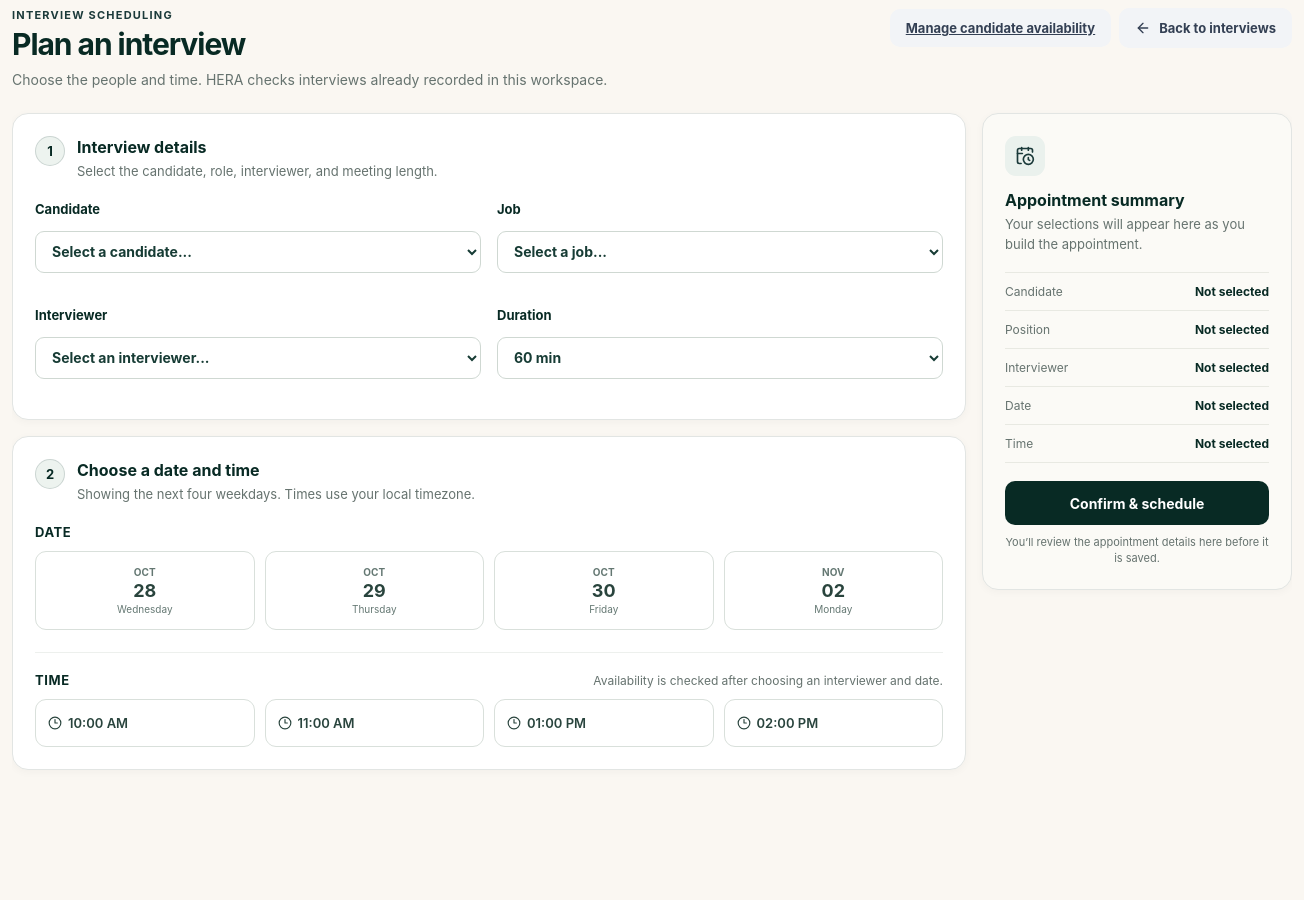
Test: ScheduleInterview › loads availability for the chosen day and disables a conflicting time
Expected: the heading "Interview details" is shown, [77, 137, 207, 157]
Select "Ada Lovelace — Engineer" in the dropdown labelled "Candidate". click: (258, 252)
box: [35, 231, 481, 273]
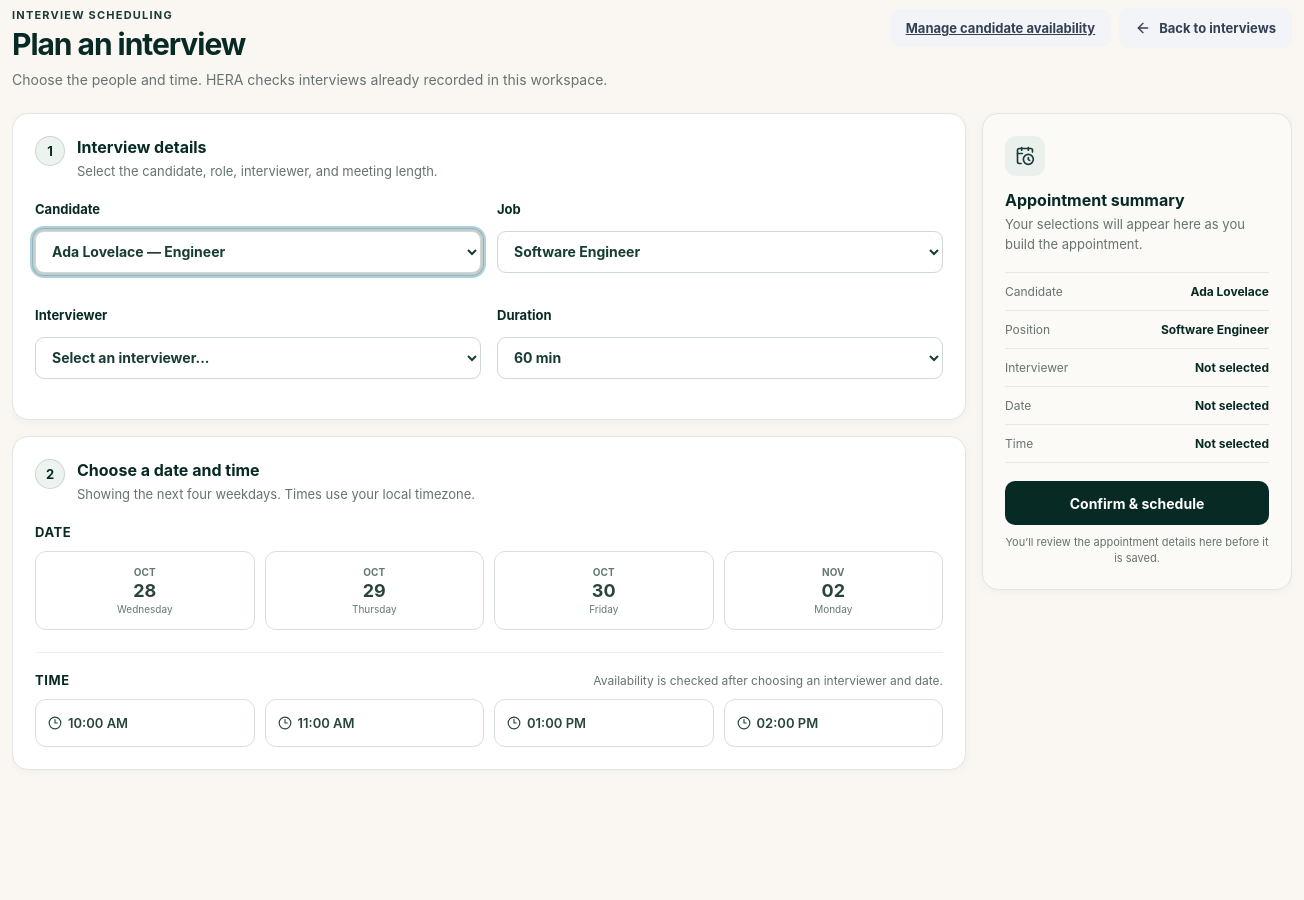
Select "Grace Hopper" in the dropdown labelled "Interviewer". click: (258, 358)
box: [35, 337, 481, 379]
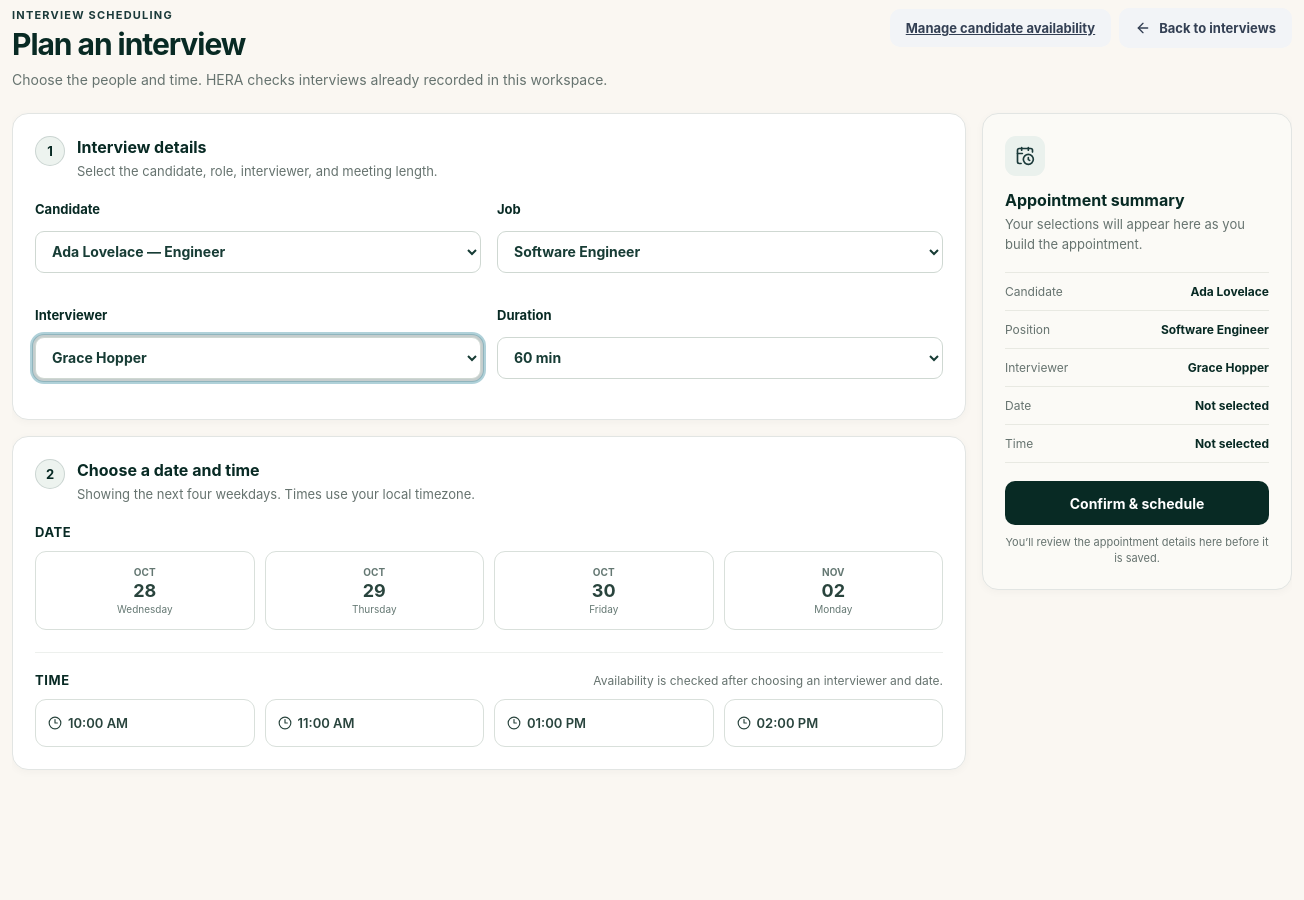
Click the button "OCT 28 Wednesday". click: (145, 590)
box: [35, 551, 254, 630]
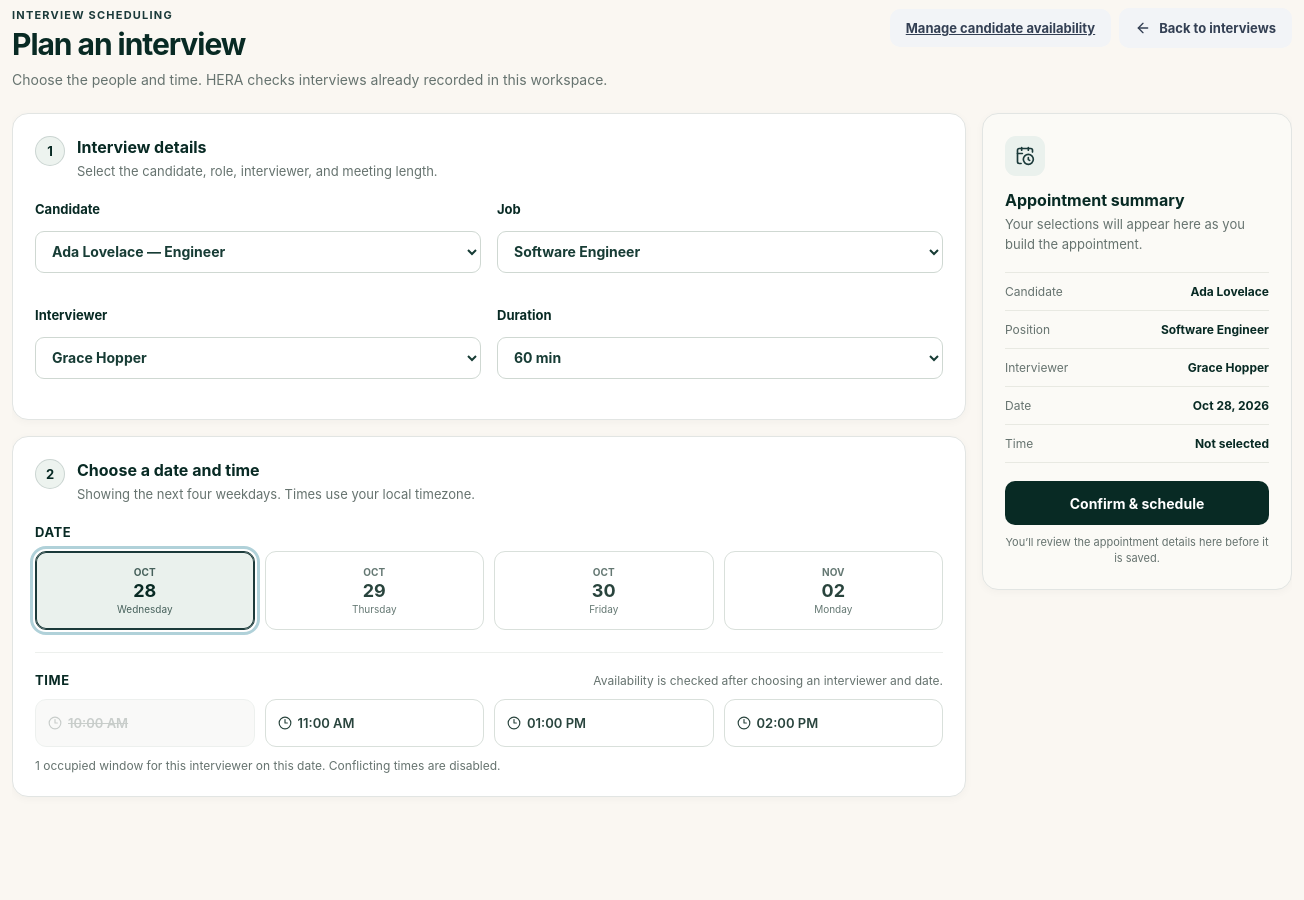
Expected: the button "11:00 AM" is enabled, [264, 699, 484, 747]
Now the text "occupied window for this interviewer" is shown, box [35, 758, 500, 773]
Now the button "10:00 AM" is disabled, box [35, 699, 254, 747]
